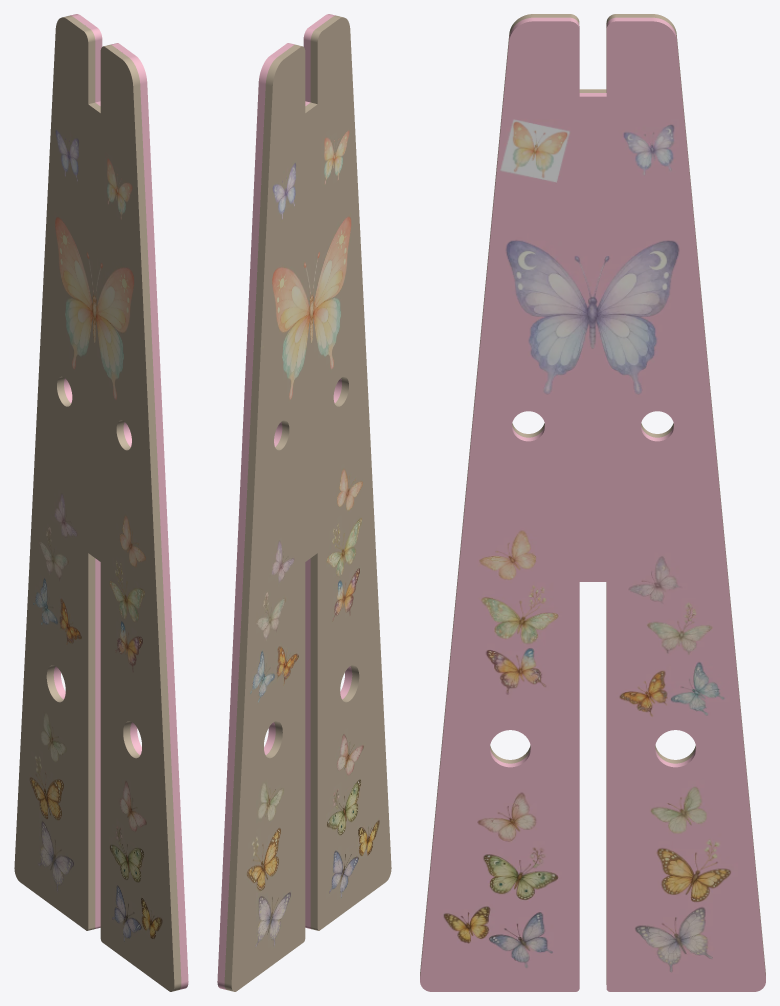
3 views of the same model, side by side, from view 1: azimuth 30°, elevation 25°; view 2: azimuth 150°, elevation 25°; view 3: azimuth 270°, elevation 25° (orthographic). The views are drawn at different scales.
Visible parts, largest first — view 1: p009; view 2: p009; view 3: p009.
Part boxes in pixels (x1,y1,x2,y2): p009: (14,14,188,991); p009: (217,14,391,991); p009: (420,14,765,991).
Size of the model in its own units: 18 by 1095 by 354.
4 materials, 2 textured.
